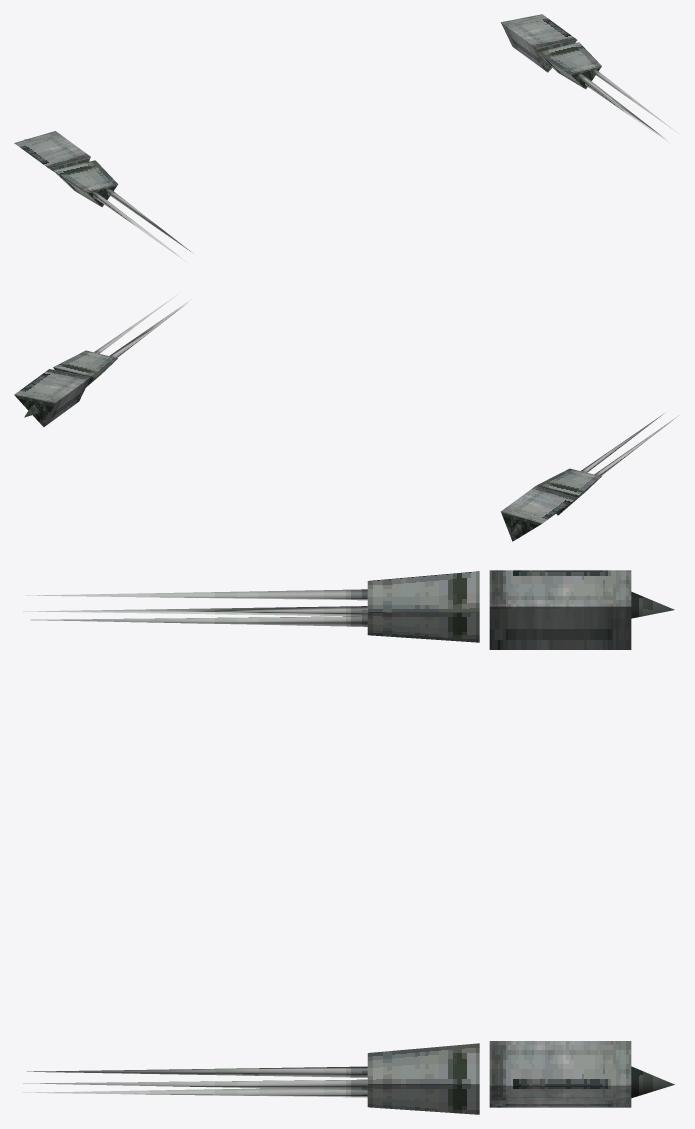
The model's file is black_sun_fighter_heavy_weapon3_s04_l3.fbx.
The picture shows the model from 3 angles, top to bottom: view 1: azimuth 30°, elevation 25°; view 2: azimuth 150°, elevation 25°; view 3: azimuth 270°, elevation 25°; orthographic projection. The views are drawn at different scales.
Parts seen in each view (by area): view 1: mesh_node; view 2: mesh_node; view 3: mesh_node.
Part boxes in pixels (left/top/right/bottom): mesh_node: left=14, top=14, right=679, bottom=260; mesh_node: left=14, top=294, right=679, bottom=541; mesh_node: left=23, top=570, right=674, bottom=1114.
Bounding box in the file's own units: 14.2 × 0.7047 × 7.63.
1 material, 1 textured.
